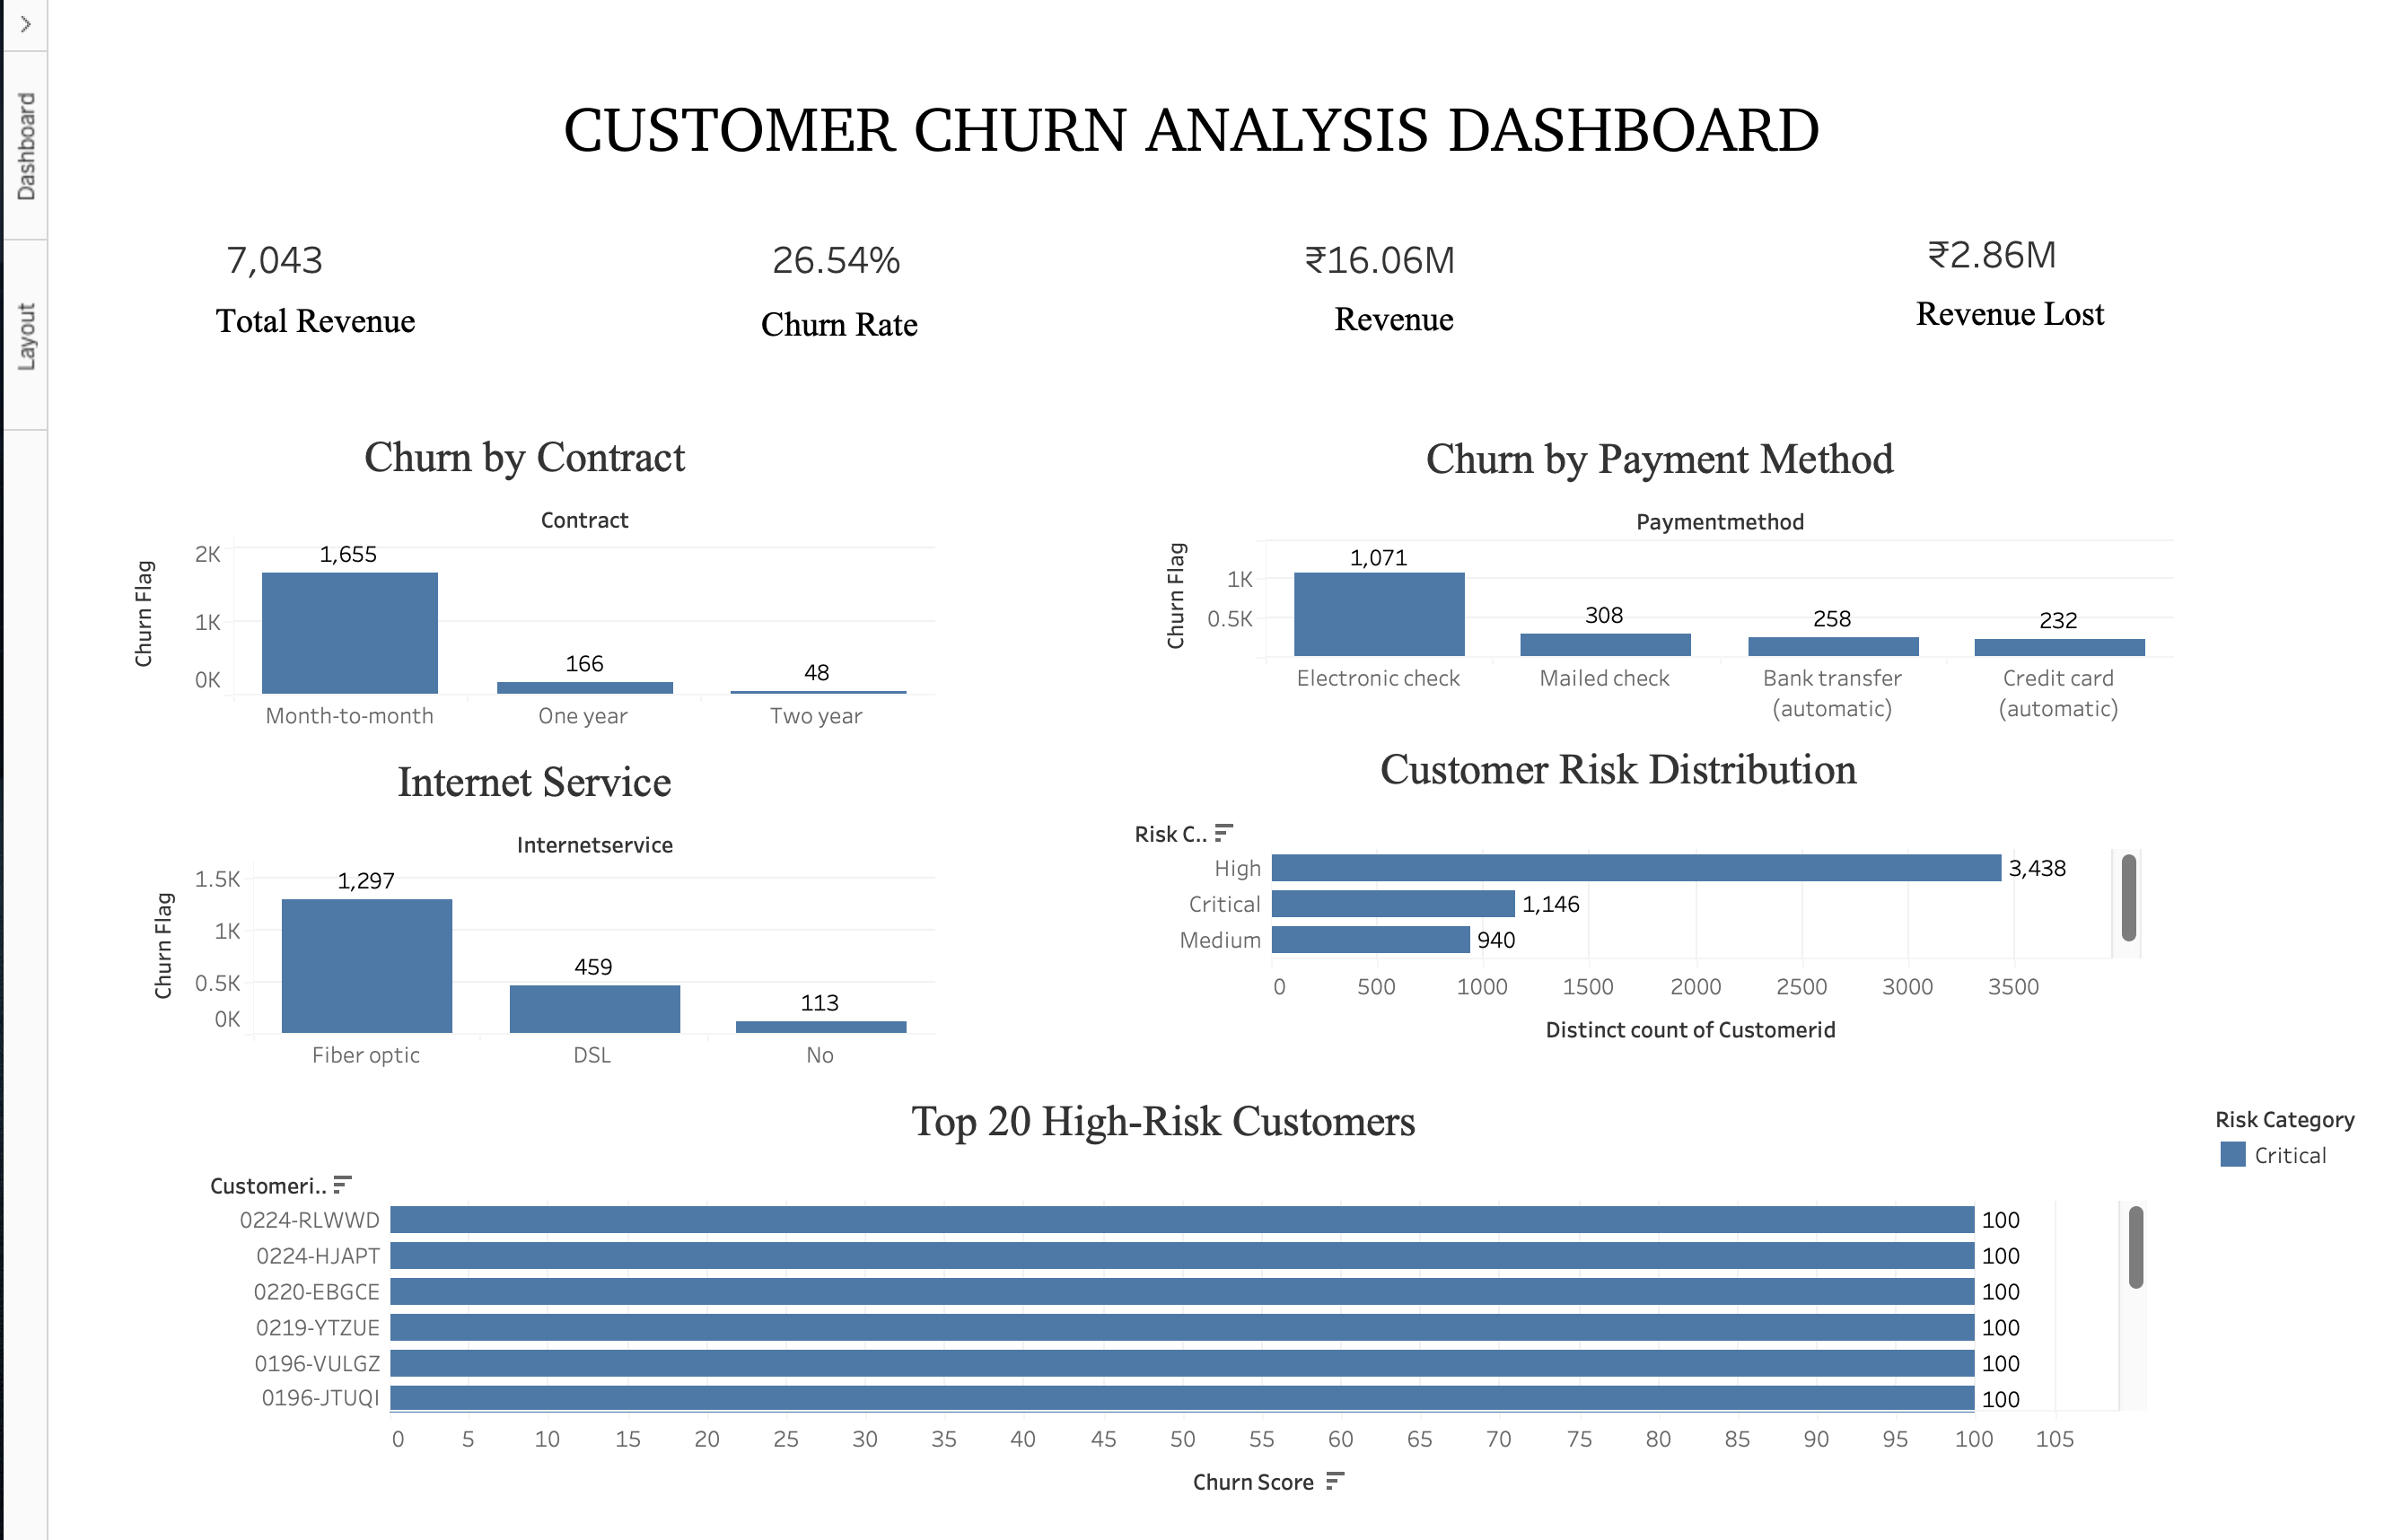

The dashboard page shown, as its layout file describes it:
{"tool":"tableau","page":{"name":"Dashboard 1","canvas":[1000,1000],"units":"permille","ordinal":0},"visuals":[{"type":"text","box":[70.7,34.6,615.1,96.9]},{"type":"dashboard-object","param":"[com.tableau.addfilters].[0.0.0].[https://extensions.tableauusercontent.com/sand","box":[687.1,73.8,217.5,31.1]},{"type":"worksheet","title":"Churn rate","mark":"Automatic","box":[187.5,136.1,146.1,64.6]},{"type":"worksheet","title":"Total Customer","mark":"Text","box":[18.7,138.4,136.1,58.8]},{"type":"worksheet","title":"Revenue","mark":"Automatic","box":[378.9,140.7,124.8,54.2]},{"type":"worksheet","title":"Revenue Lost","mark":"Automatic","box":[545.7,140.7,194.8,47.3]},{"type":"text","box":[543.7,177.6,210.1,50.8]},{"type":"text","box":[340.2,181.1,210.1,50.8]},{"type":"text","box":[156.8,184.5,210.1,50.8]},{"type":"worksheet","title":"Churn by Contract","mark":"Bar","rows":["Calculation_0482782047170560"],"cols":["contract"],"box":[22,274.5,271.5,197.2]},{"type":"worksheet","title":"Churn by Payment Method","mark":"Automatic","rows":["Calculation_0482782047170560"],"cols":["paymentmethod"],"box":[363.6,275.7,339.6,194.9]},{"type":"worksheet","title":"Customer Risk Distribution","mark":"Bar","rows":["Calculation_0482782055428102"],"cols":["customerid"],"box":[356.9,475.2,335.6,205.3]},{"type":"worksheet","title":"Internet Service","mark":"Automatic","rows":["Calculation_0482782047170560"],"cols":["internetservice"],"box":[28.7,483.3,264.8,206.5]},{"type":"worksheet","title":"Top 20 High-Risk Customers","mark":"Automatic","rows":["Customerid (copy)_0482782064422920"],"cols":["Calculation_0482782055120901"],"box":[53.4,701.3,641.1,269.9]},{"type":"legend","title":"Top 20 High-Risk Customers","param":"[federated.178l07d0y6t2yq17oqrah0ygz7j0].[none:Calculation_0482782055428102:nk]","box":[716.5,710.5,93.4,43.8]}]}

Visuals, with their boxes on the dashboard's canvas, which has no fixed pixel size, in thousandths of its width and height (x1, y1, x2, y2). These are canvas units, not pixel positions in the 2393x1540 screenshot, which may show the page scaled, cropped or inside an application window:
text: x1=71 y1=35 x2=686 y2=132
dashboard-object: x1=687 y1=74 x2=905 y2=105
"Churn rate" worksheet: x1=188 y1=136 x2=334 y2=201
"Total Customer" worksheet (Text marks): x1=19 y1=138 x2=155 y2=197
"Revenue" worksheet: x1=379 y1=141 x2=504 y2=195
"Revenue Lost" worksheet: x1=546 y1=141 x2=740 y2=188
text: x1=544 y1=178 x2=754 y2=228
text: x1=340 y1=181 x2=550 y2=232
text: x1=157 y1=184 x2=367 y2=235
"Churn by Contract" worksheet (Bar marks): x1=22 y1=274 x2=294 y2=472
"Churn by Payment Method" worksheet: x1=364 y1=276 x2=703 y2=471
"Customer Risk Distribution" worksheet (Bar marks): x1=357 y1=475 x2=692 y2=680
"Internet Service" worksheet: x1=29 y1=483 x2=294 y2=690
"Top 20 High-Risk Customers" worksheet: x1=53 y1=701 x2=694 y2=971
"Top 20 High-Risk Customers" legend: x1=716 y1=710 x2=810 y2=754
